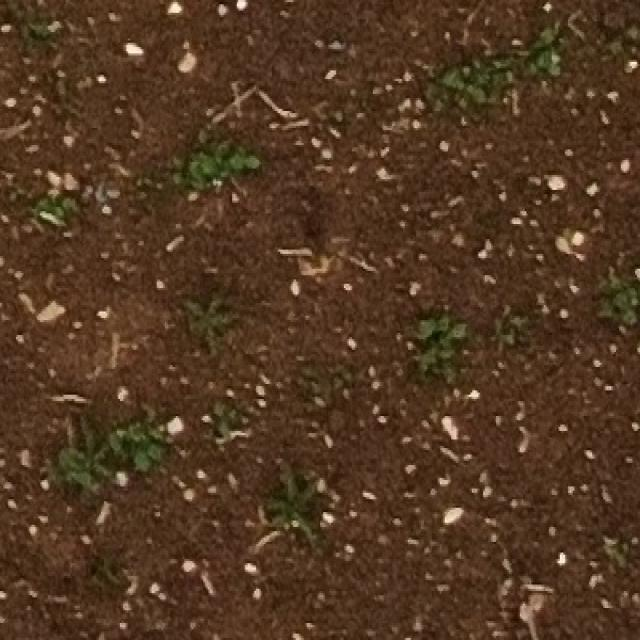cirse: (258, 441, 328, 537), (269, 486, 336, 583), (258, 469, 322, 560), (56, 408, 110, 505), (187, 293, 253, 372), (60, 417, 115, 511), (170, 277, 234, 355), (188, 273, 249, 353), (63, 400, 117, 490)
